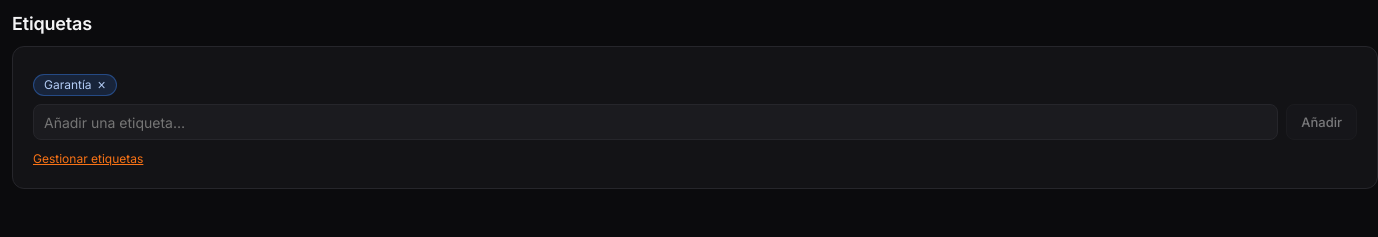
Scenario: ReceiptTagsSection (spec 051 H1 criterio 1) › si falla, muestra el error
The image size is (1378, 237).
Step 1. Type "Otra" into the field labelled "Añadir una etiqueta" → (656, 122), box [33,104,1278,140]
Then press Enter
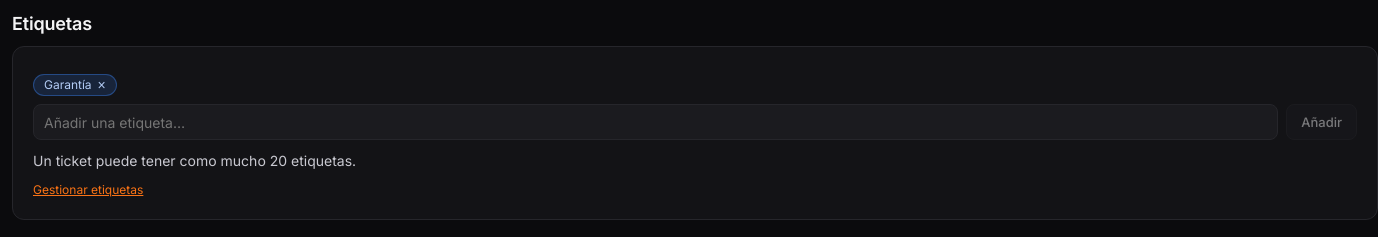
Expected: the message shows "como mucho 20 etiquetas", [33,152,356,169]
